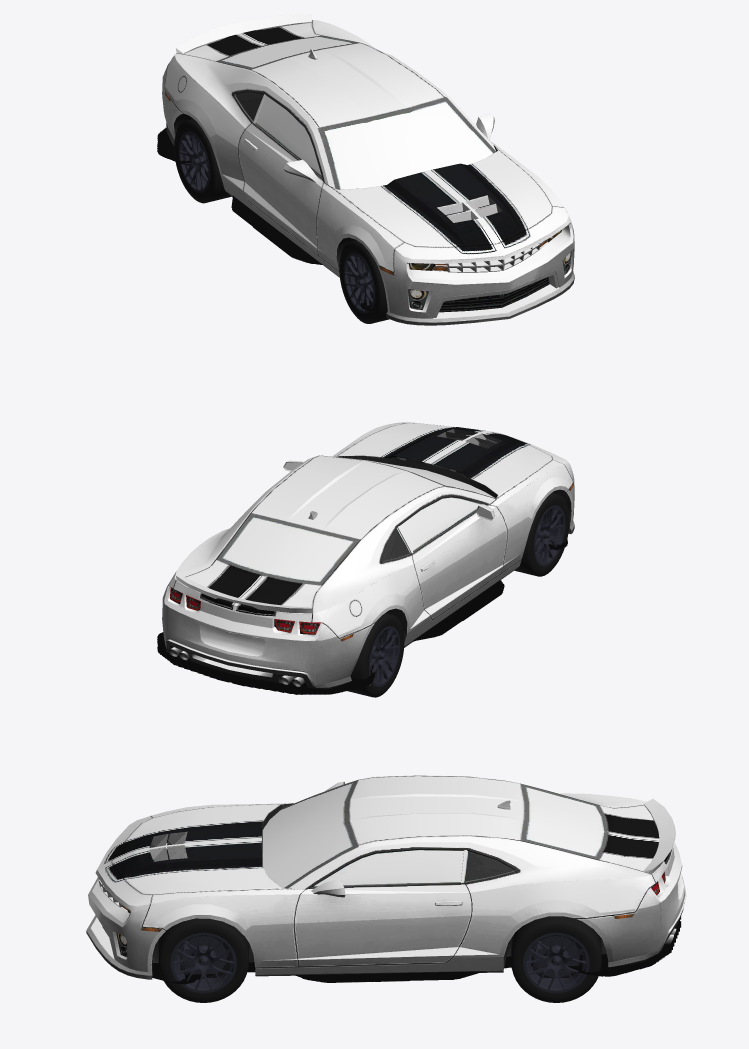
The model's file is 06 Chevrolet Camaro.fbx.
3 views of the same model, one above another, from view 1: azimuth 30°, elevation 25°; view 2: azimuth 150°, elevation 25°; view 3: azimuth 270°, elevation 25° (orthographic). The views are drawn at different scales.
Visible parts, largest first — view 1: _06_Chevrolet_Camaro, V_Light, Plane, W_FL_0_3, W_FL_0_1, W_FL_1_3, W_FL_1_1; view 2: _06_Chevrolet_Camaro, Plane, W_FL_0_3, W_FL_0_1, W_FL_1_3, W_FL_1_1, V_Light; view 3: _06_Chevrolet_Camaro, W_FL_0_2, W_FL_0, W_FL_1_2, Plane, W_FL_1, V_Light.
Boxes of the visible parts, x1=… form: _06_Chevrolet_Camaro: x1=162, y1=14, x2=574, y2=325; V_Light: x1=165, y1=92, x2=573, y2=312; Plane: x1=157, y1=127, x2=386, y2=315; W_FL_0_3: x1=174, y1=119, x2=231, y2=203; W_FL_0_1: x1=339, y1=240, x2=388, y2=323; W_FL_1_3: x1=178, y1=131, x2=209, y2=192; W_FL_1_1: x1=343, y1=252, x2=374, y2=313; _06_Chevrolet_Camaro: x1=162, y1=422, x2=574, y2=689; Plane: x1=157, y1=539, x2=567, y2=694; W_FL_0_3: x1=347, y1=613, x2=404, y2=697; W_FL_0_1: x1=514, y1=492, x2=569, y2=576; W_FL_1_3: x1=368, y1=626, x2=400, y2=686; W_FL_1_1: x1=534, y1=505, x2=565, y2=566; V_Light: x1=170, y1=477, x2=573, y2=671; _06_Chevrolet_Camaro: x1=86, y1=775, x2=686, y2=979; W_FL_0_2: x1=511, y1=916, x2=601, y2=1002; W_FL_0: x1=158, y1=918, x2=248, y2=1002; W_FL_1_2: x1=523, y1=932, x2=589, y2=993; Plane: x1=152, y1=916, x2=681, y2=984; W_FL_1: x1=170, y1=932, x2=236, y2=993; V_Light: x1=102, y1=871, x2=665, y2=957.
Size of the model in its own units: 349 by 126 by 535.
